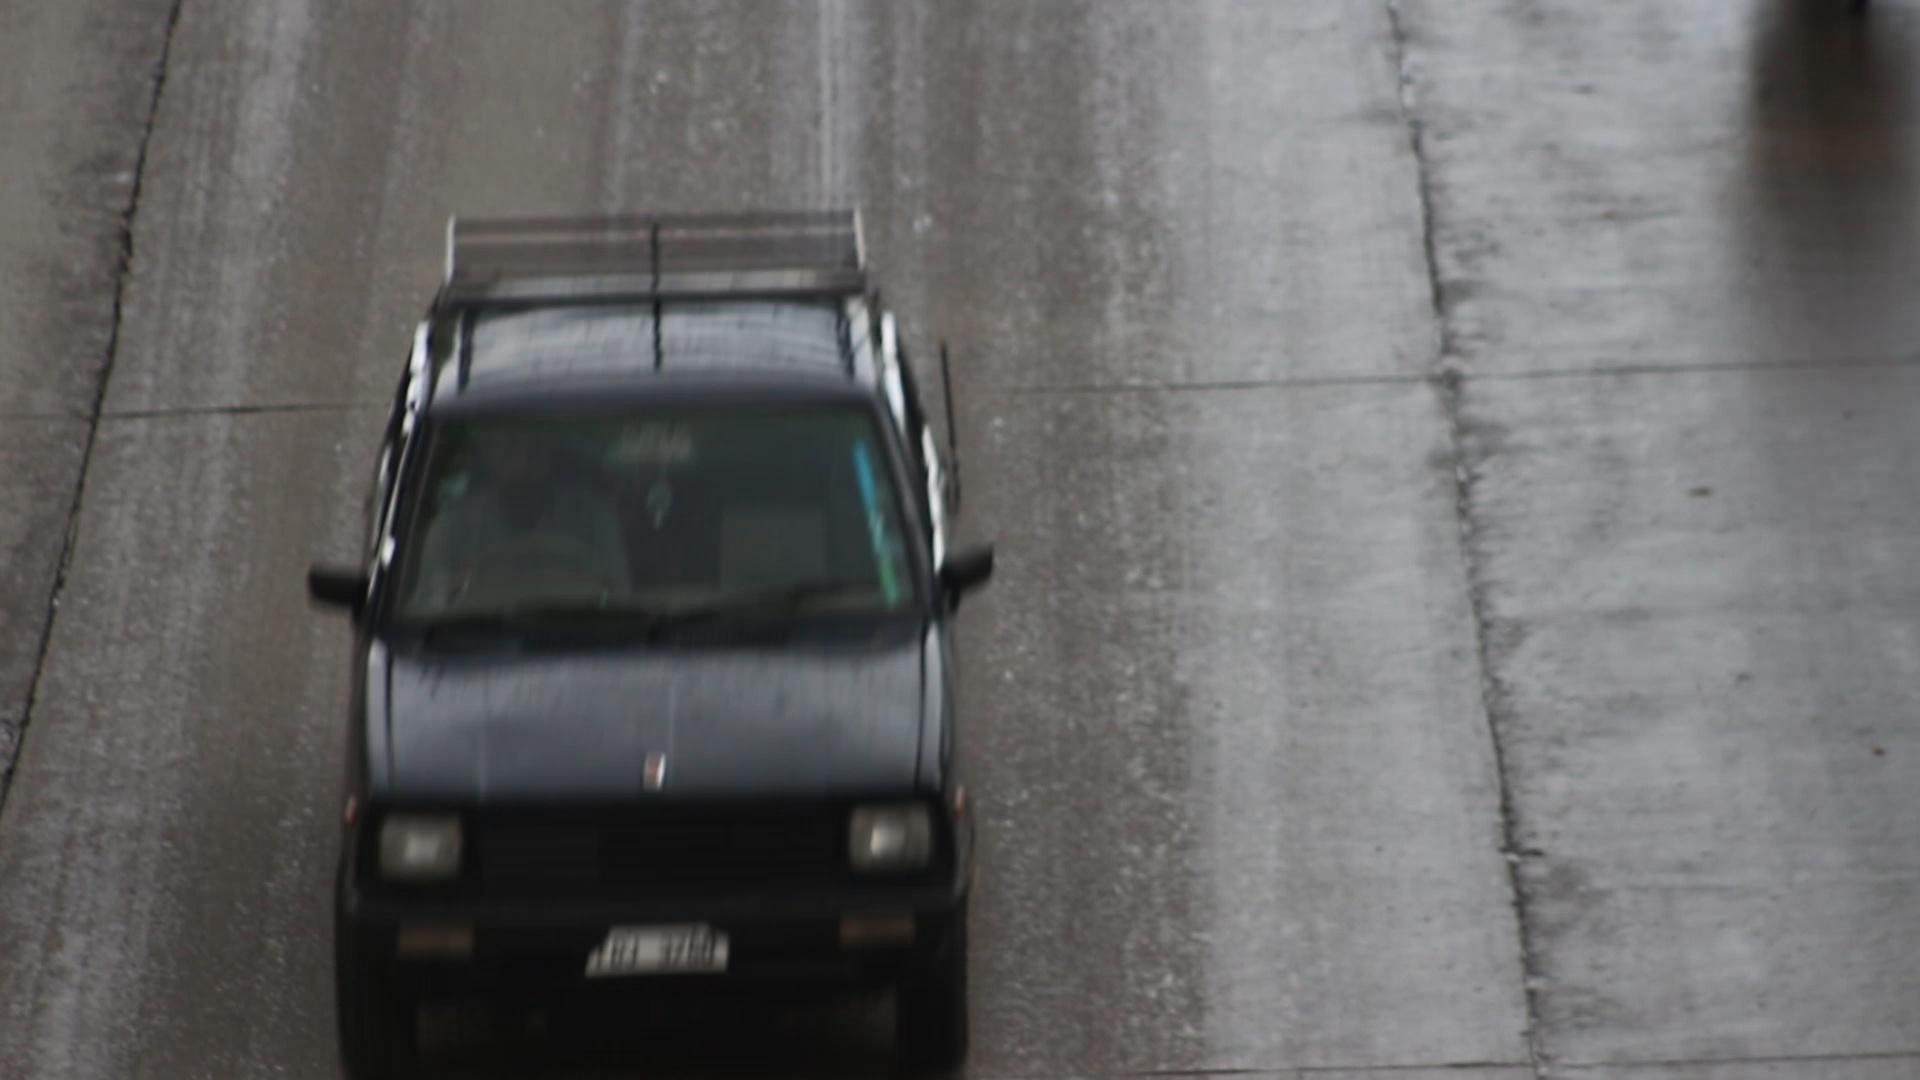windshield: (377, 384, 944, 640)
